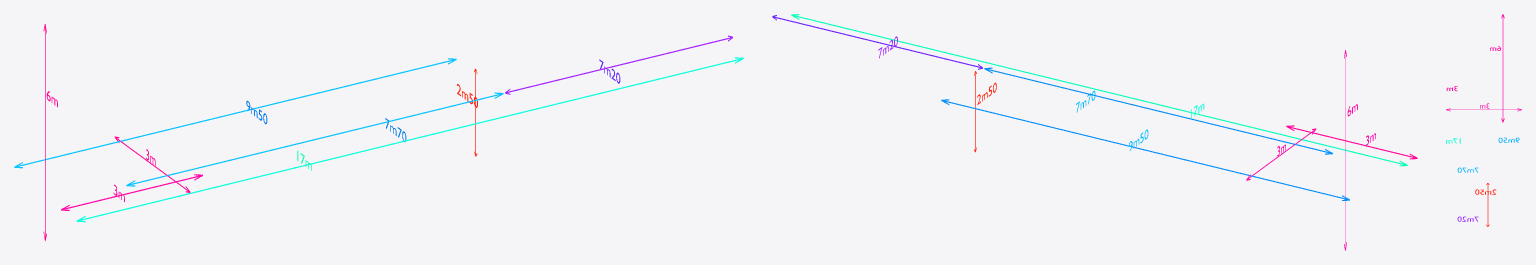
Rendered from indications.glb.
3 renders of one model, left to right at view 1: azimuth 30°, elevation 25°; view 2: azimuth 150°, elevation 25°; view 3: azimuth 270°, elevation 25°, orthographic. The views are drawn at different scales.
Parts seen in each view (by area): view 1: longueur totale regie drap proj, fleches 9m balcon drap proj, fleches 7m70 balcon table mix, fleches 7m20 balcon to regie; view 2: longueur totale regie drap proj, fleches 9m balcon drap proj, fleches 7m70 balcon table mix, fleches 7m20 balcon to regie; view 3: fleches 6m hauteur scene, fleches 2m50 hauteur balcon, fleches largeur scene, 9m50, 7m20, 2m50, 7m70.
Part boxes in pixels (x1,y1,x2,y2): longueur totale regie drap proj: (76, 57, 743, 222); fleches 9m balcon drap proj: (14, 58, 456, 168); fleches 7m70 balcon table mix: (126, 92, 503, 186); fleches 7m20 balcon to regie: (505, 35, 732, 94); longueur totale regie drap proj: (791, 14, 1407, 166); fleches 9m balcon drap proj: (941, 99, 1349, 200); fleches 7m70 balcon table mix: (984, 67, 1332, 154); fleches 7m20 balcon to regie: (772, 15, 982, 69); fleches 6m hauteur scene: (1501, 14, 1504, 122); fleches 2m50 hauteur balcon: (1486, 183, 1489, 226); fleches largeur scene: (1446, 108, 1521, 111); 9m50: (1498, 137, 1519, 142); 7m20: (1457, 216, 1478, 221); 2m50: (1475, 189, 1496, 194); 7m70: (1457, 167, 1478, 172).
Bounding box in the file's own units: 6.53 × 2.03 × 1.25.
